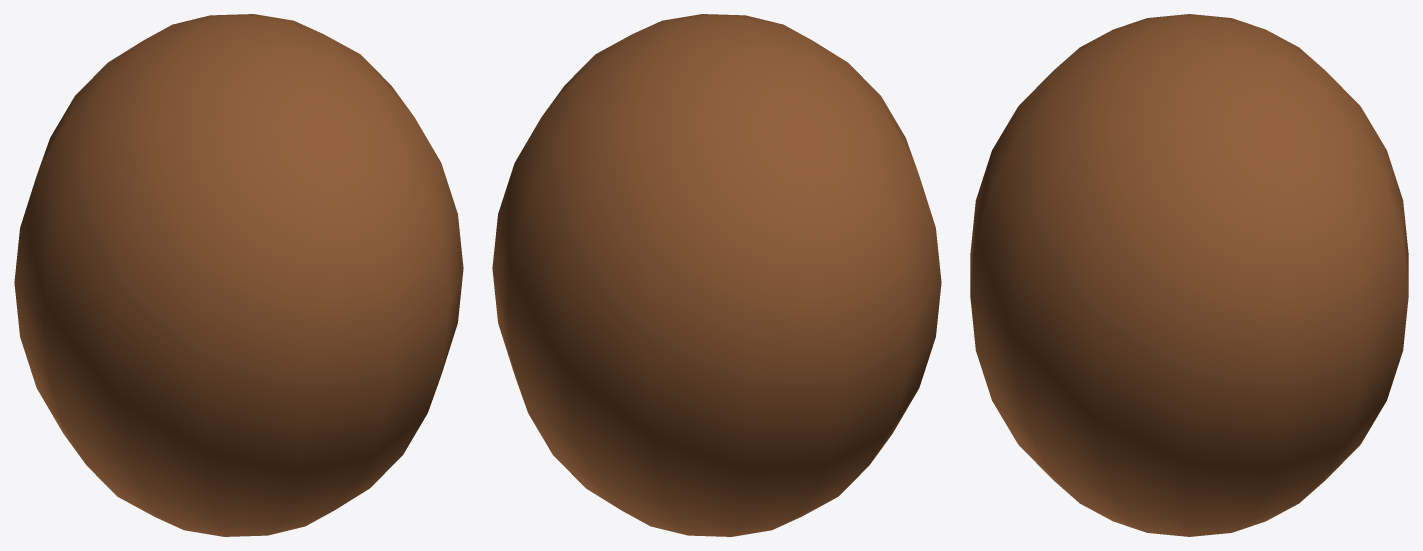
Rendered from Escorpiodra_stage3.obj.
3 renders of one model, left to right at view 1: azimuth 30°, elevation 25°; view 2: azimuth 150°, elevation 25°; view 3: azimuth 270°, elevation 25°, orthographic.
Size of the model in its own units: 2.6 by 3.12 by 2.53.
